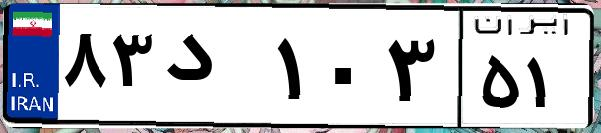0: (330, 28, 385, 110)
1: (270, 28, 330, 110), (525, 38, 570, 115)
3: (385, 28, 445, 110), (110, 28, 158, 98)
5: (475, 38, 525, 113)
8: (57, 26, 110, 100)
د: (158, 20, 270, 120)
